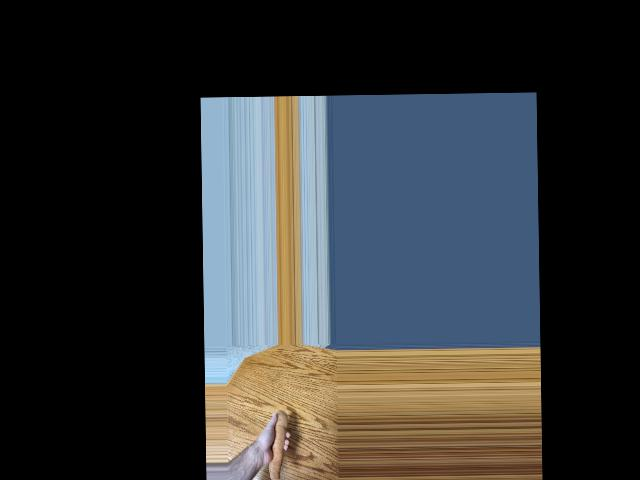sweet_potato: (266, 411, 291, 480)
